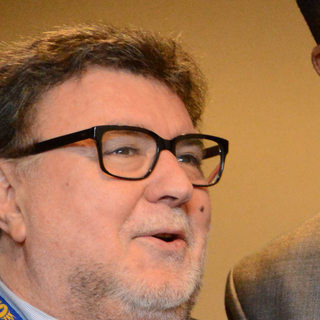eye: (100, 140, 143, 164), (173, 149, 205, 173)
